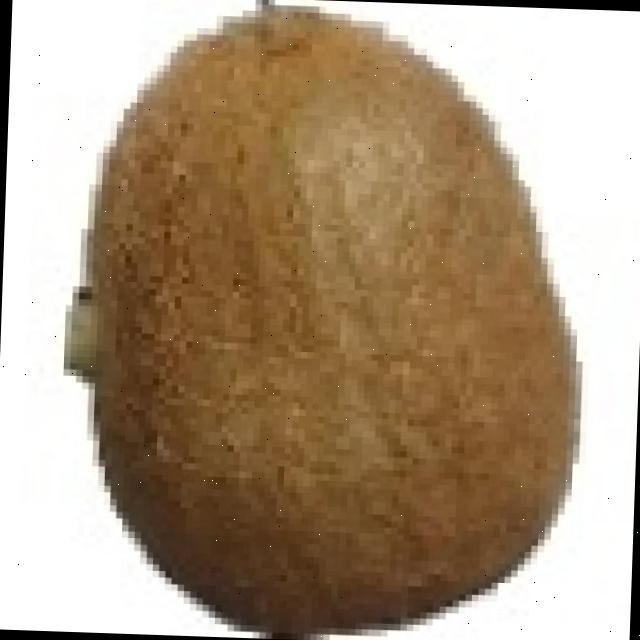kiwi: (82, 5, 587, 619)
